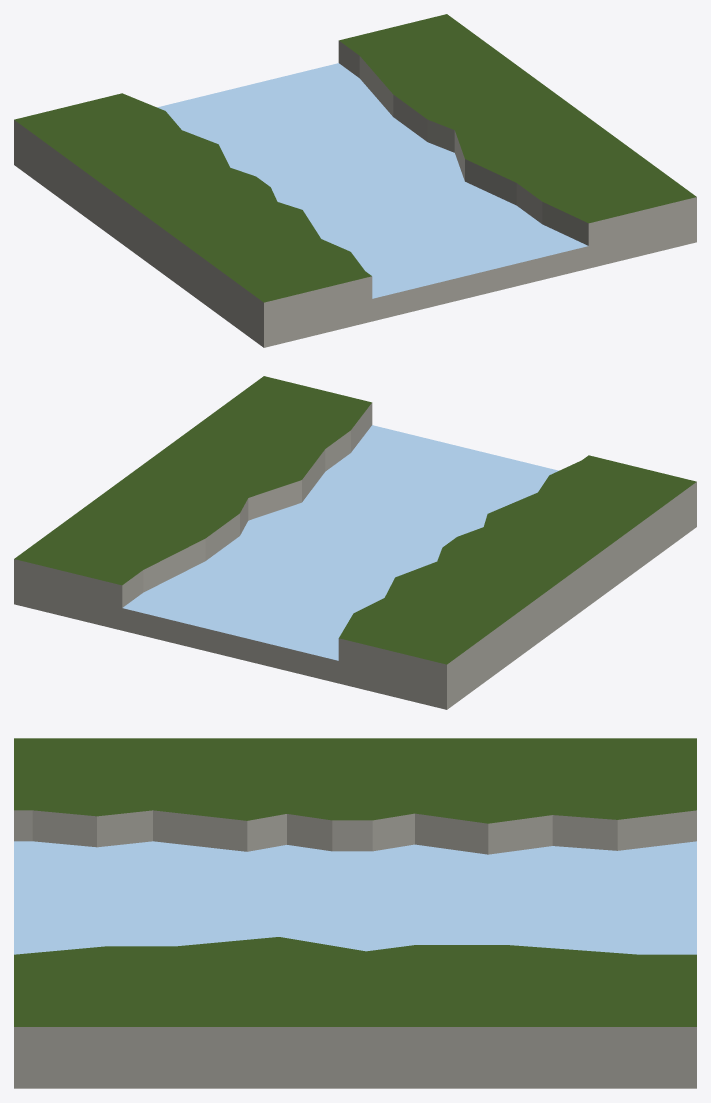
The model's file is Terrain_Modular_Tiles_Grass_Rock_River_Straight_03.fbx.
3 renders of one model, top to bottom at view 1: azimuth 30°, elevation 25°; view 2: azimuth 150°, elevation 25°; view 3: azimuth 270°, elevation 25°, orthographic. The views are drawn at different scales.
Visible parts, largest first — view 1: Terrain_Modular_Tiles_Grass_Rock_River_Straight_03; view 2: Terrain_Modular_Tiles_Grass_Rock_River_Straight_03; view 3: Terrain_Modular_Tiles_Grass_Rock_River_Straight_03.
Boxes of the visible parts, x1,y1,x2,y2 form: Terrain_Modular_Tiles_Grass_Rock_River_Straight_03: (14,14,696,347); Terrain_Modular_Tiles_Grass_Rock_River_Straight_03: (14,376,696,709); Terrain_Modular_Tiles_Grass_Rock_River_Straight_03: (14,738,696,1088).
Size of the model in its own units: 3000 by 300 by 3000.
